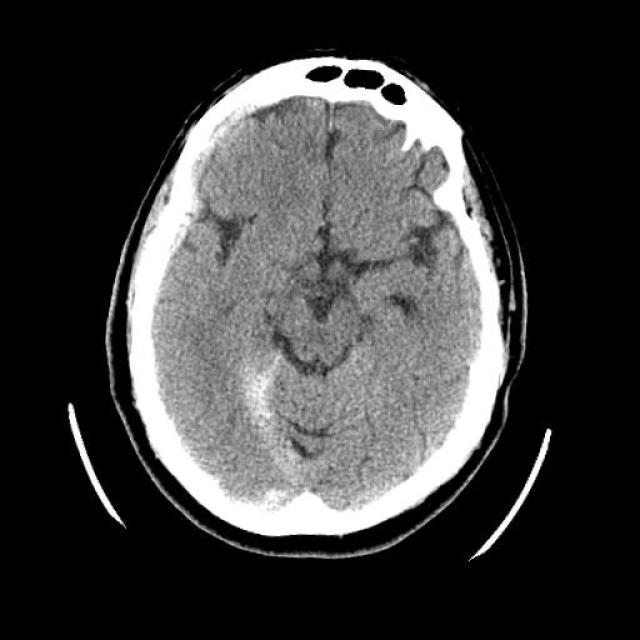Subarachnoid: (224, 344, 317, 477)
Subdural: (158, 94, 258, 194)
